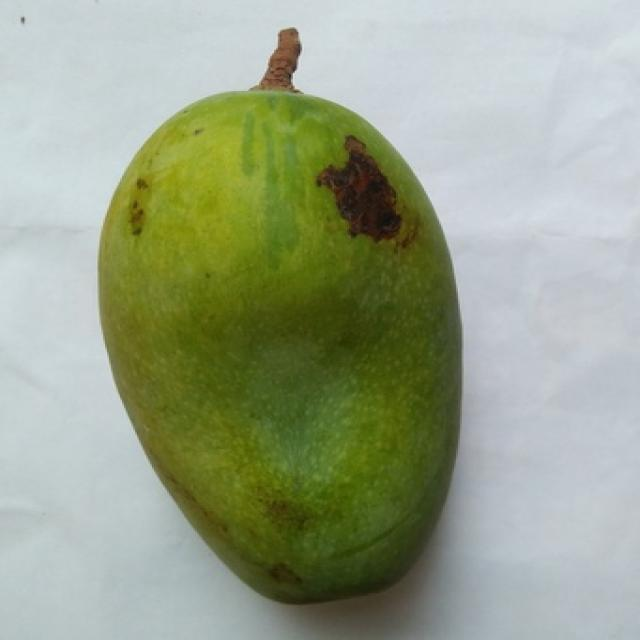Mango: (99, 89, 460, 601)
